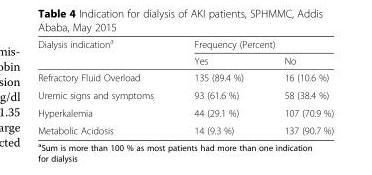table: (37, 36, 333, 135)
table column: (37, 36, 173, 135), (173, 36, 263, 135), (263, 36, 333, 135)
table column header: (37, 36, 333, 68)
table row: (37, 85, 333, 103), (37, 103, 333, 121), (37, 68, 333, 85), (37, 36, 333, 52), (37, 52, 333, 68), (37, 121, 333, 135)
table spanning cell: (37, 36, 173, 68), (173, 36, 333, 52)
